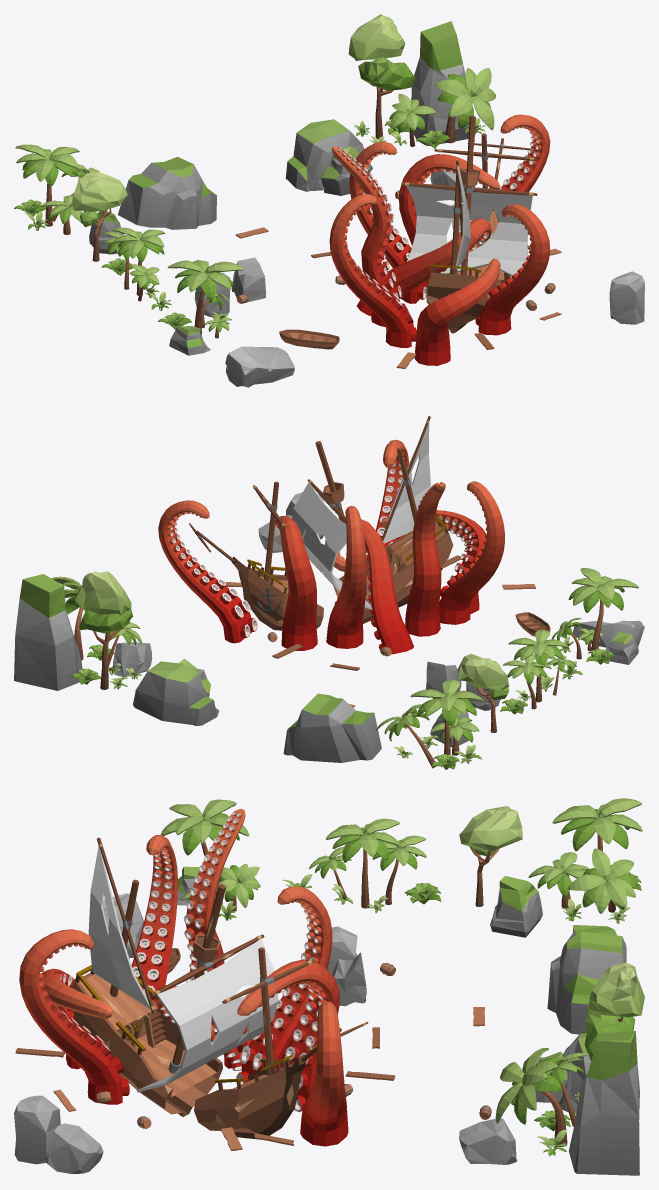
Rendered from field_18.glb.
The picture shows the model from 3 angles, top to bottom: view 1: azimuth 30°, elevation 25°; view 2: azimuth 150°, elevation 25°; view 3: azimuth 270°, elevation 25°; orthographic projection. The views are drawn at different scales.
Visible parts, largest first — view 1: back ship_47, green stone 4_53, tentacles 3 (1)_11, green stone 2_55, tentacles 2 (1)_51, tree 9_22, tentacles 5_12, tentacles_54, green stone 5_35, palm tree tilted (1)_49, tentacles 6_28, stone small 5_64 (+18 smaller); view 2: back ship_47, green stone 2_55, green stone 4_53, tentacles 2_20, tentacles_54, green stone 5_35, tentacles 3 (1)_11, tentacles 4_42, front ship_6, tentacles 3_62, tentacles 6_28, tree 9_22 (+15 smaller); view 3: back ship_47, green stone 2_55, front ship_6, tentacles 2 (1)_51, green stone 4_53, tentacles 3_62, tentacles 2_20, tentacles 3 (1)_11, tentacles 4_42, tree 9_22, tentacles_54, palm tree tilted (1)_49 (+20 smaller).
Boxes of the visible parts, box(x1,y1,x2,y2) form: back ship_47: box(401, 115, 537, 333); green stone 4_53: box(118, 156, 216, 229); tentacles 3 (1)_11: box(329, 194, 416, 347); green stone 2_55: box(411, 21, 474, 145); tentacles 2 (1)_51: box(475, 204, 550, 335); tree 9_22: box(348, 14, 415, 139); tentacles 5_12: box(414, 258, 500, 365); tentacles_54: box(331, 146, 402, 326); green stone 5_35: box(285, 119, 372, 191); palm tree tilted (1)_49: box(435, 68, 495, 143); tentacles 6_28: box(356, 218, 492, 315); stone small 5_64: box(225, 346, 294, 387); back ship_47: box(292, 416, 453, 623); green stone 2_55: box(14, 574, 82, 690); green stone 4_53: box(283, 693, 381, 762); tentacles 2_20: box(158, 500, 257, 643); tentacles_54: box(405, 482, 445, 636); green stone 5_35: box(133, 661, 218, 725); tentacles 3 (1)_11: box(439, 481, 504, 624); tentacles 4_42: box(275, 516, 317, 650); front ship_6: box(189, 481, 323, 630); tentacles 3_62: box(326, 505, 366, 648); tentacles 6_28: box(325, 519, 413, 654); tree 9_22: box(75, 571, 133, 689); back ship_47: box(72, 837, 278, 1116); green stone 2_55: box(569, 1031, 639, 1175); front ship_6: box(194, 947, 368, 1139); tentacles 2 (1)_51: box(19, 929, 129, 1104); green stone 4_53: box(547, 925, 626, 1034); tentacles 3_62: box(236, 886, 332, 1084); tentacles 2_20: box(300, 1001, 348, 1146); tentacles 3 (1)_11: box(131, 834, 177, 1002); tentacles 4_42: box(237, 960, 339, 1112); tree 9_22: box(584, 962, 644, 1060); tentacles_54: box(184, 808, 245, 982); palm tree tilted (1)_49: box(495, 1048, 567, 1146).
Bounding box in the file's own units: 21.2 × 8.77 × 19.92.
1 material, 1 textured.
